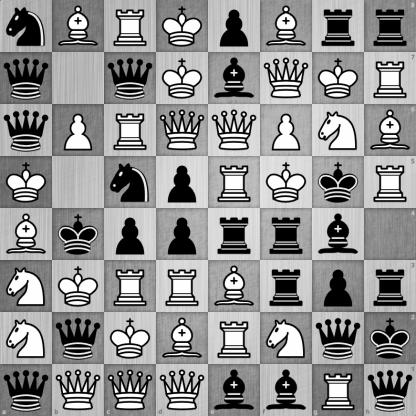B: (364, 104, 416, 156), (1, 209, 52, 260), (53, 1, 104, 52), (157, 313, 208, 364), (209, 261, 260, 312), (261, 1, 312, 52)
K: (1, 157, 52, 208), (53, 261, 104, 312), (105, 313, 156, 364), (157, 1, 208, 52), (157, 53, 208, 104), (261, 157, 312, 208), (313, 53, 364, 104)
N: (1, 261, 52, 312), (1, 313, 52, 364), (261, 313, 312, 364), (313, 105, 364, 156)
P: (53, 105, 104, 156), (261, 105, 312, 156)
Q: (156, 364, 209, 416), (52, 364, 104, 416), (104, 364, 156, 416), (157, 105, 208, 156), (209, 105, 260, 156), (261, 53, 312, 104)
R: (364, 156, 416, 209), (312, 364, 364, 416), (364, 52, 416, 104), (105, 1, 156, 52), (105, 105, 156, 156), (105, 261, 156, 312), (157, 261, 208, 312), (209, 157, 260, 208), (209, 313, 260, 364)
b: (260, 364, 312, 416), (209, 364, 260, 416), (209, 53, 260, 104), (313, 209, 364, 260)
board: (0, 0, 415, 415)
k: (364, 312, 416, 364), (53, 209, 104, 260), (313, 157, 364, 208)
n: (1, 1, 52, 52), (105, 157, 156, 208)
p: (105, 209, 156, 260), (157, 157, 208, 208), (157, 209, 208, 260), (209, 1, 260, 52), (313, 261, 364, 312)
q: (0, 364, 52, 416), (364, 364, 416, 416), (1, 53, 52, 104), (1, 105, 52, 156), (53, 313, 104, 364), (105, 53, 156, 104), (313, 313, 364, 364)
r: (364, 0, 416, 52), (364, 260, 416, 312), (209, 209, 260, 260), (261, 209, 312, 260), (261, 261, 312, 312), (313, 1, 364, 52)
